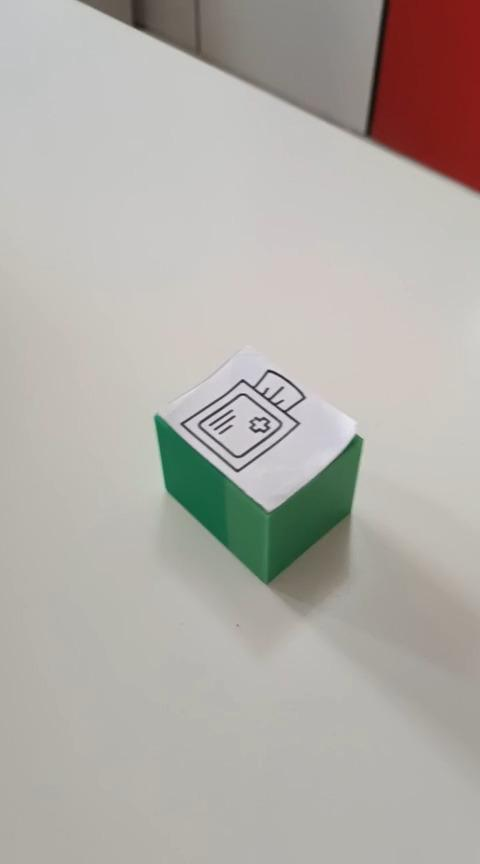Gauze: (152, 344, 364, 585)
